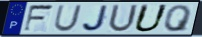F: (22, 4, 56, 33)
J: (81, 5, 110, 33)
Q: (163, 4, 193, 33)
U: (132, 3, 170, 33), (106, 4, 140, 34), (53, 4, 84, 33)
